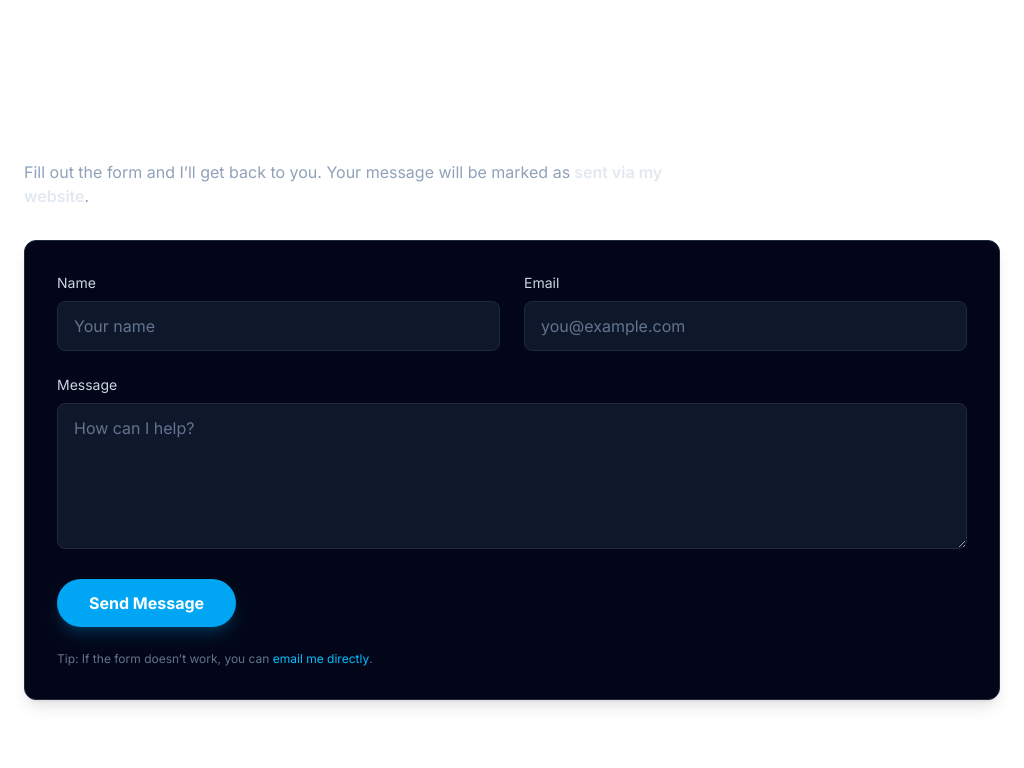
ContactSection › focus management after a failed submit › moves focus to the name field when every field is invalid
The width and height of the screenshot is (1024, 768).
Click the button "Send Message": (147, 603) [57,579,236,627]
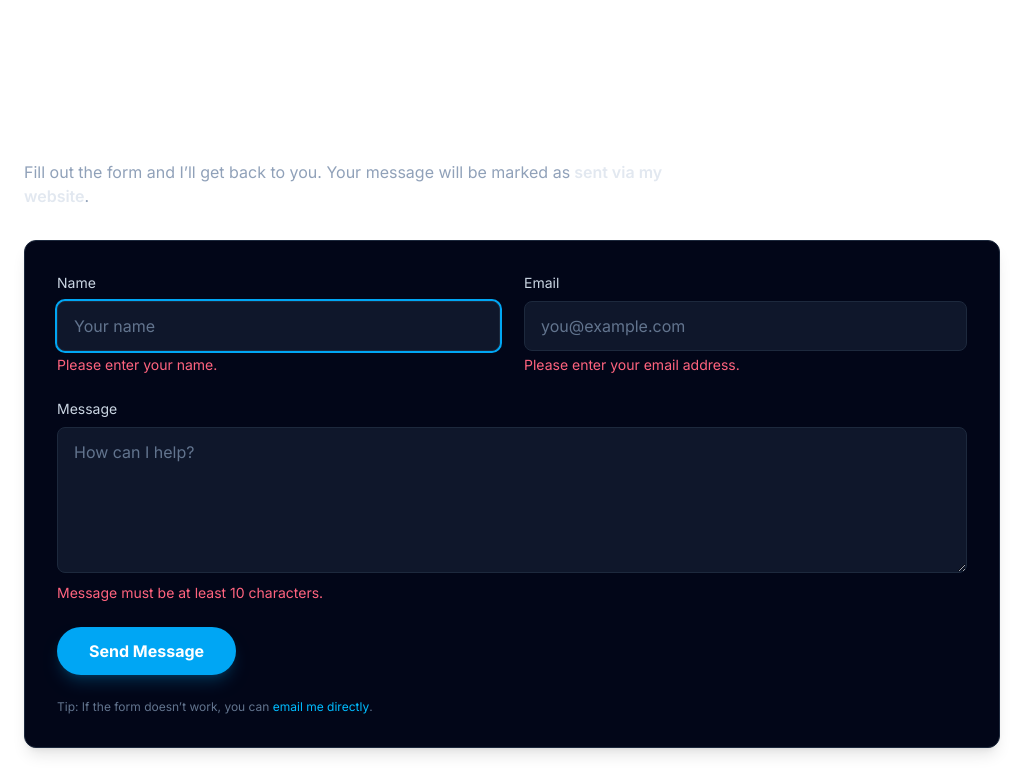
Now the text "Please enter your name." is shown, box [57,356,217,373]
